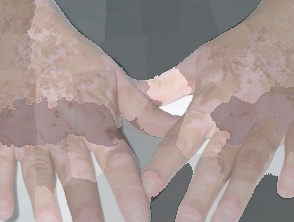vitiligo: (0, 11, 171, 201), (146, 17, 294, 182)
